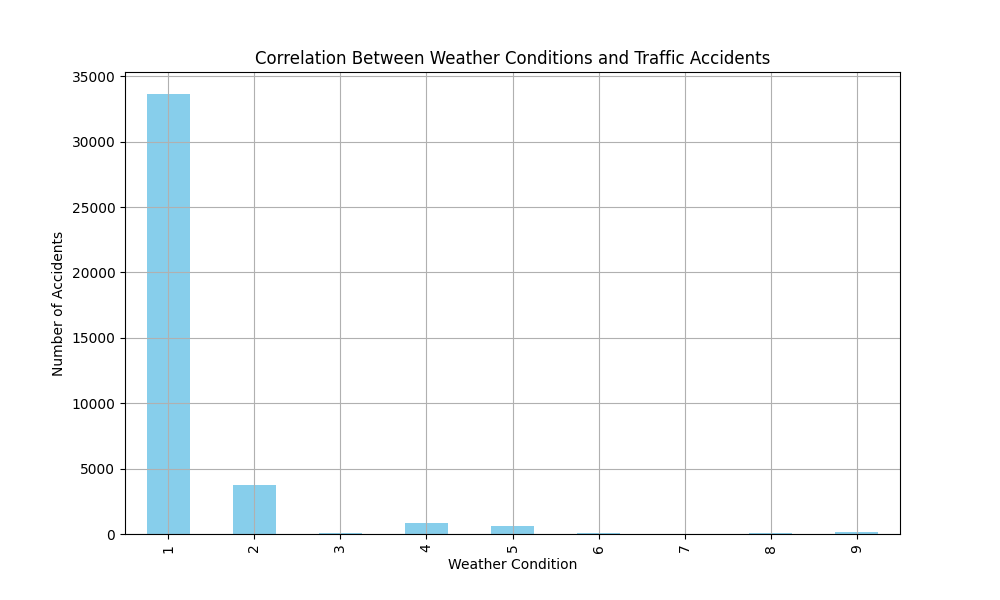

What the dashboard file says about the page in this screenshot:
{"tool":"tableau","page":{"name":"Dashboard 1","canvas":[1000,1000],"units":"permille","ordinal":0},"visuals":[{"type":"worksheet","title":"Sheet 2","mark":"Bar","rows":["count"],"cols":["date","date"],"box":[1.8,480.7,991,499.4]}]}

Visuals, with their boxes on the dashboard's canvas, which has no fixed pixel size, in thousandths of its width and height (x1, y1, x2, y2). These are canvas units, not pixel positions in the 1000x600 screenshot, which may show the page scaled, cropped or inside an application window:
"Sheet 2" worksheet (Bar marks): detection(2, 481, 993, 980)
